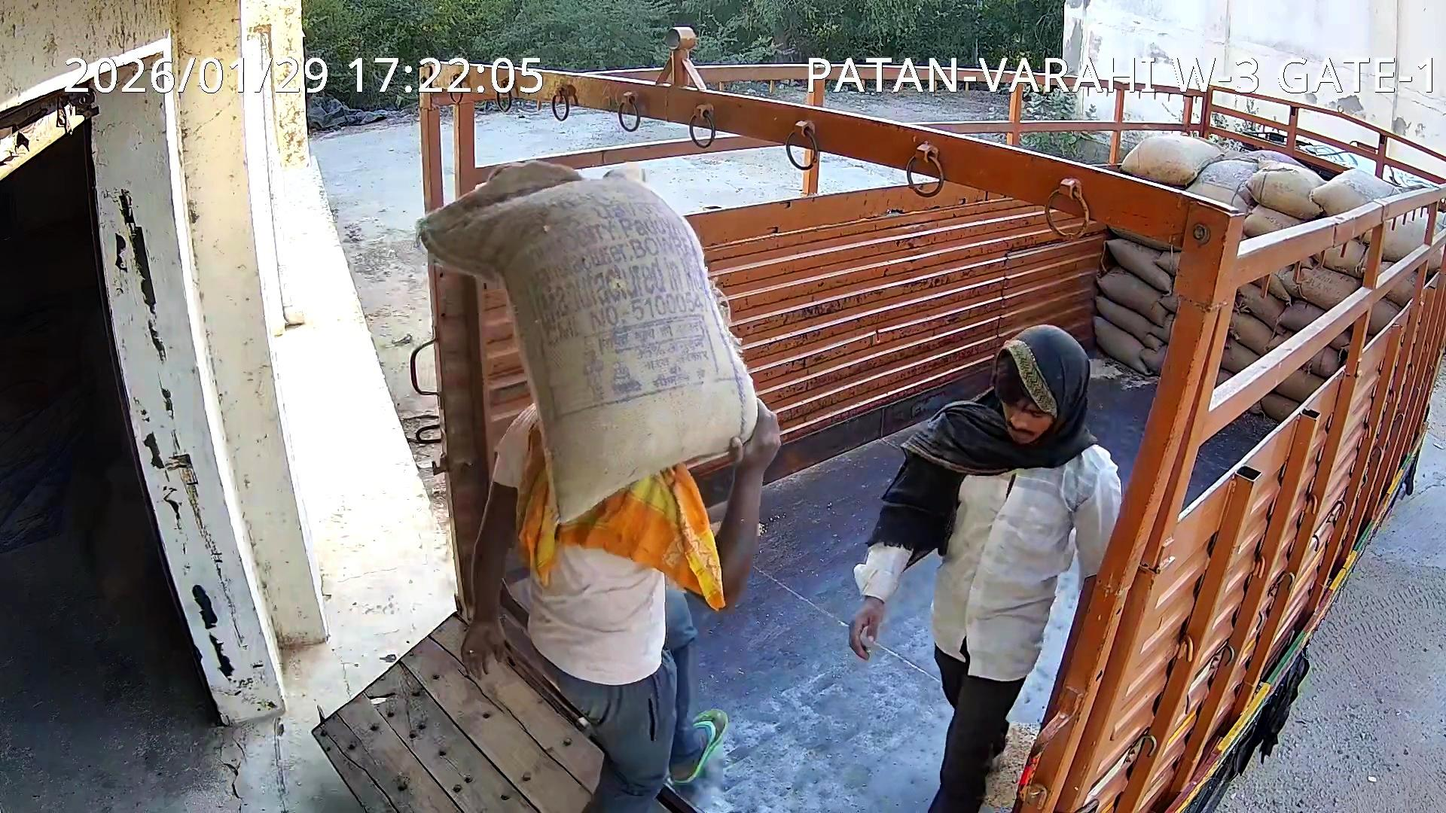Sack: (419, 161, 755, 519)
